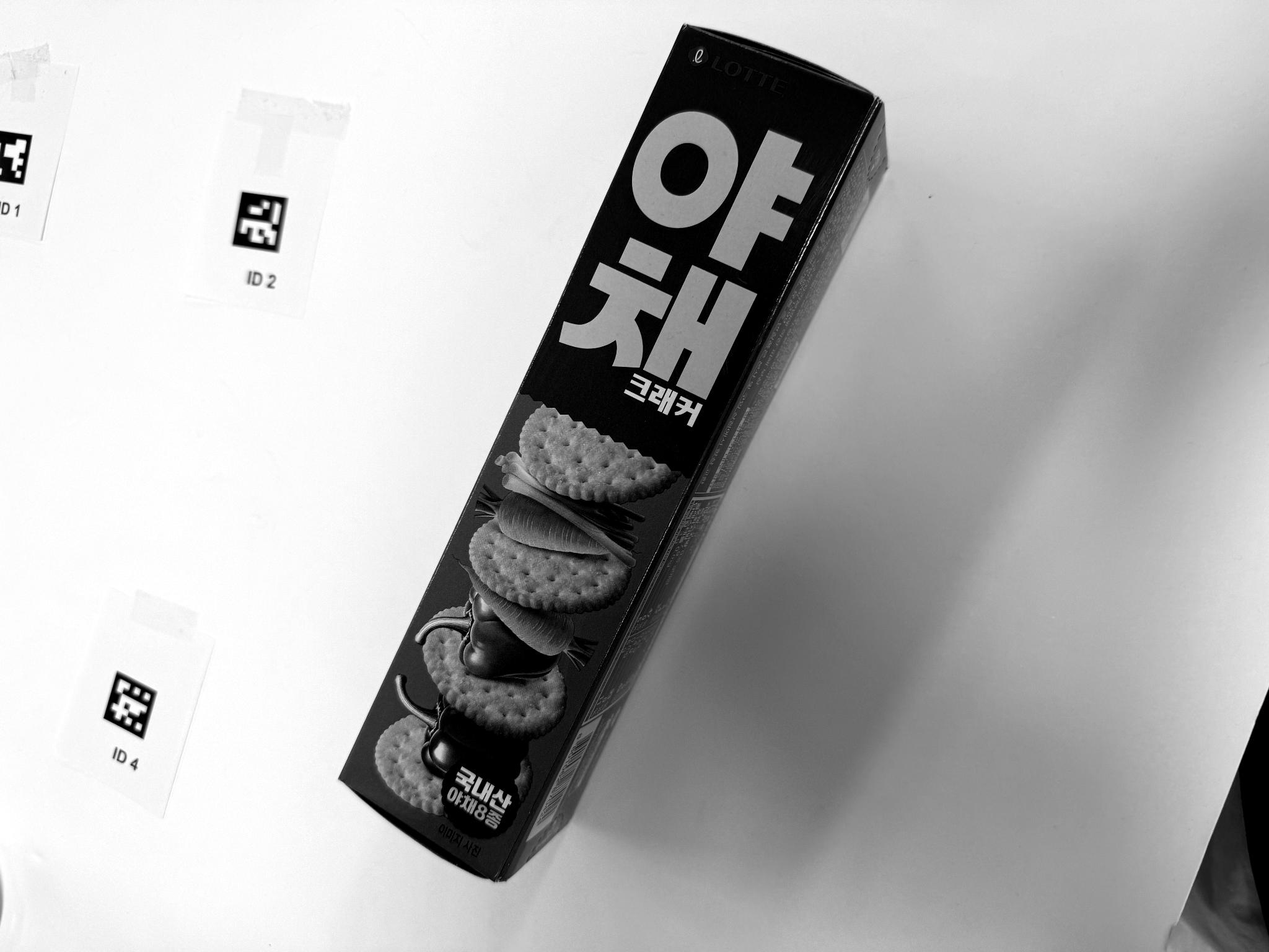cracker_vege: (341, 26, 887, 880)
